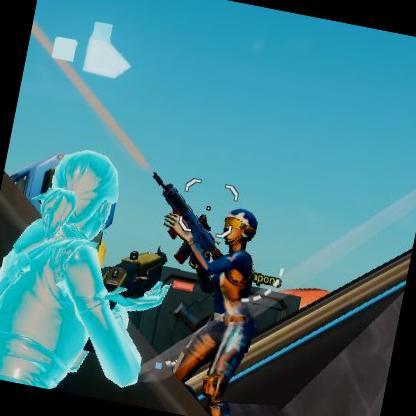person: (174, 200, 268, 323)
